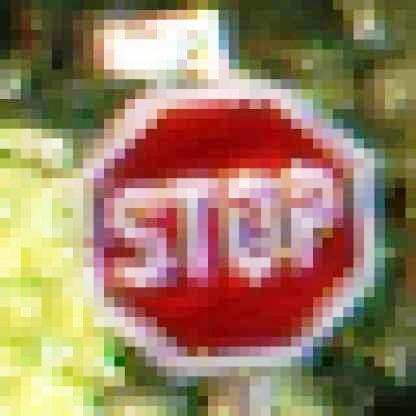Stop Sign: (87, 80, 381, 371)
